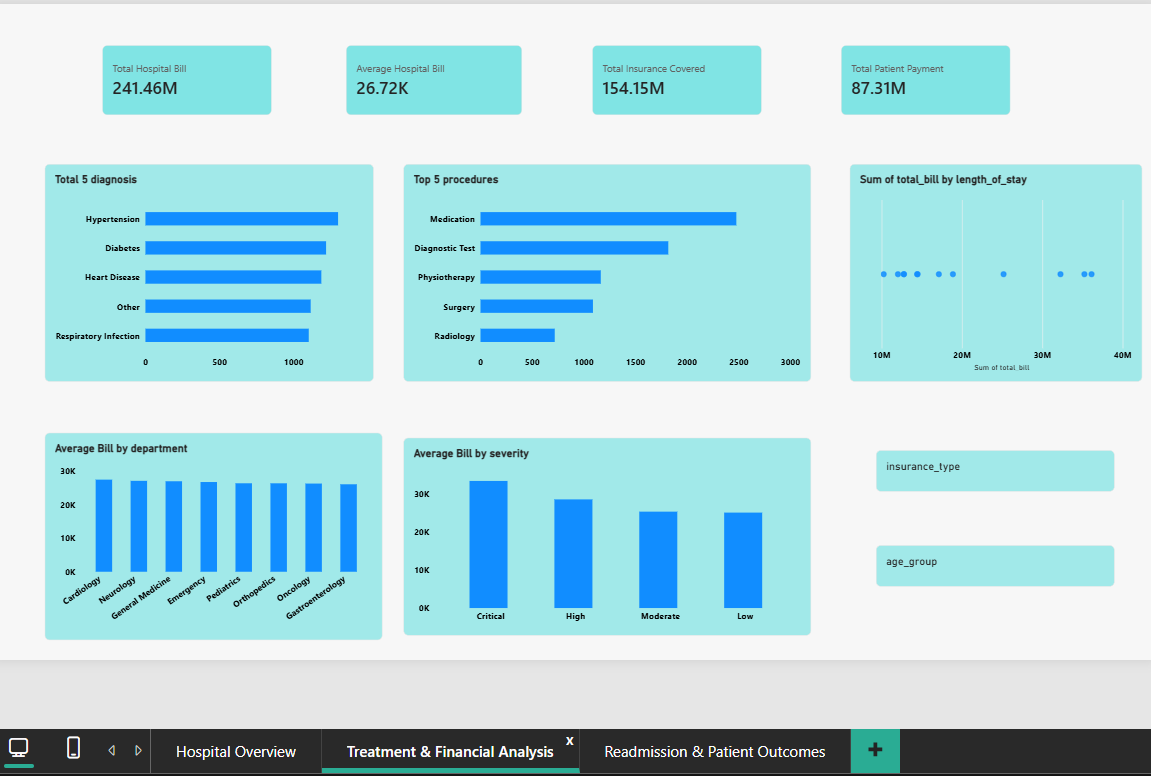

What the dashboard file says about the page in this screenshot:
{"tool":"powerbi","page":{"name":"Treatment & Financial Analysis","canvas":[1920,1080],"ordinal":1},"visuals":[{"type":"cardVisual","fields":{"Data":["hospital_records hospitals.Total Hospital Bill"]},"box":[183.2,67.9,279.9,115.3],"z":0},{"type":"cardVisual","fields":{"Data":["hospital_records hospitals.Average Hospital Bill"]},"box":[584.6,67.9,290.2,115.3],"z":1000},{"type":"cardVisual","fields":{"Data":["hospital_records hospitals.Total Insurance Covered"]},"box":[990.1,67.9,279.9,115.3],"z":2000},{"type":"cardVisual","fields":{"Data":["hospital_records hospitals.Total Patient Payment"]},"box":[1399.7,67.9,279.9,115.3],"z":3000},{"type":"clusteredBarChart","title":"Total 5 diagnosis","fields":{"Category":["hospital_records hospitals.diagnosis"],"Y":["hospital_records hospitals.Total Patients"]},"box":[88.5,263.5,541.3,358.1],"z":4000},{"type":"clusteredBarChart","title":"Top 5 procedures","fields":{"Category":["hospital_records hospitals.procedure"],"Y":["hospital_records hospitals.Total Patients"]},"box":[679.2,263.5,671,358.1],"z":5000},{"type":"columnChart","title":"Average Bill by department","fields":{"Category":["hospital_records hospitals.department"],"Y":["hospital_records hospitals.Average Hospital Bill"]},"box":[88.5,706,555.7,341.7],"z":6000},{"type":"clusteredColumnChart","title":"Average Bill by severity","fields":{"Category":["hospital_records hospitals.severity"],"Y":["hospital_records hospitals.Average Hospital Bill"]},"box":[679.2,714.2,671,325.2],"z":7000},{"type":"scatterChart","fields":{"Category":["hospital_records hospitals.length_of_stay"],"X":["Sum(hospital_records hospitals.total_bill)"]},"box":[1414.1,263.5,481.6,358.1],"z":8000},{"type":"listSlicer","fields":{"Values":["hospital_records hospitals.insurance_type"]},"box":[1457.3,734.8,393.1,67.9],"z":9000},{"type":"listSlicer","fields":{"Values":["hospital_records hospitals.age_group"]},"box":[1457.3,891.3,393.1,67.9],"z":10000}]}

Visuals, with their boxes on the page's 1920x1080 design canvas (x1, y1, x2, y2). These are canvas units, not pixel positions in the 1151x776 screenshot, which may show the page scaled, cropped or inside an application window:
cardVisual - hospital_records hospitals.Total Hospital Bill: [x1=183, y1=68, x2=463, y2=183]
cardVisual - hospital_records hospitals.Average Hospital Bill: [x1=585, y1=68, x2=875, y2=183]
cardVisual - hospital_records hospitals.Total Insurance Covered: [x1=990, y1=68, x2=1270, y2=183]
cardVisual - hospital_records hospitals.Total Patient Payment: [x1=1400, y1=68, x2=1680, y2=183]
"Total 5 diagnosis" clusteredBarChart: [x1=88, y1=264, x2=630, y2=622]
"Top 5 procedures" clusteredBarChart: [x1=679, y1=264, x2=1350, y2=622]
"Average Bill by department" columnChart: [x1=88, y1=706, x2=644, y2=1048]
"Average Bill by severity" clusteredColumnChart: [x1=679, y1=714, x2=1350, y2=1039]
scatterChart - hospital_records hospitals.length_of_stay x Sum(hospital_records hospitals.total_bill): [x1=1414, y1=264, x2=1896, y2=622]
listSlicer - hospital_records hospitals.insurance_type: [x1=1457, y1=735, x2=1850, y2=803]
listSlicer - hospital_records hospitals.age_group: [x1=1457, y1=891, x2=1850, y2=959]
